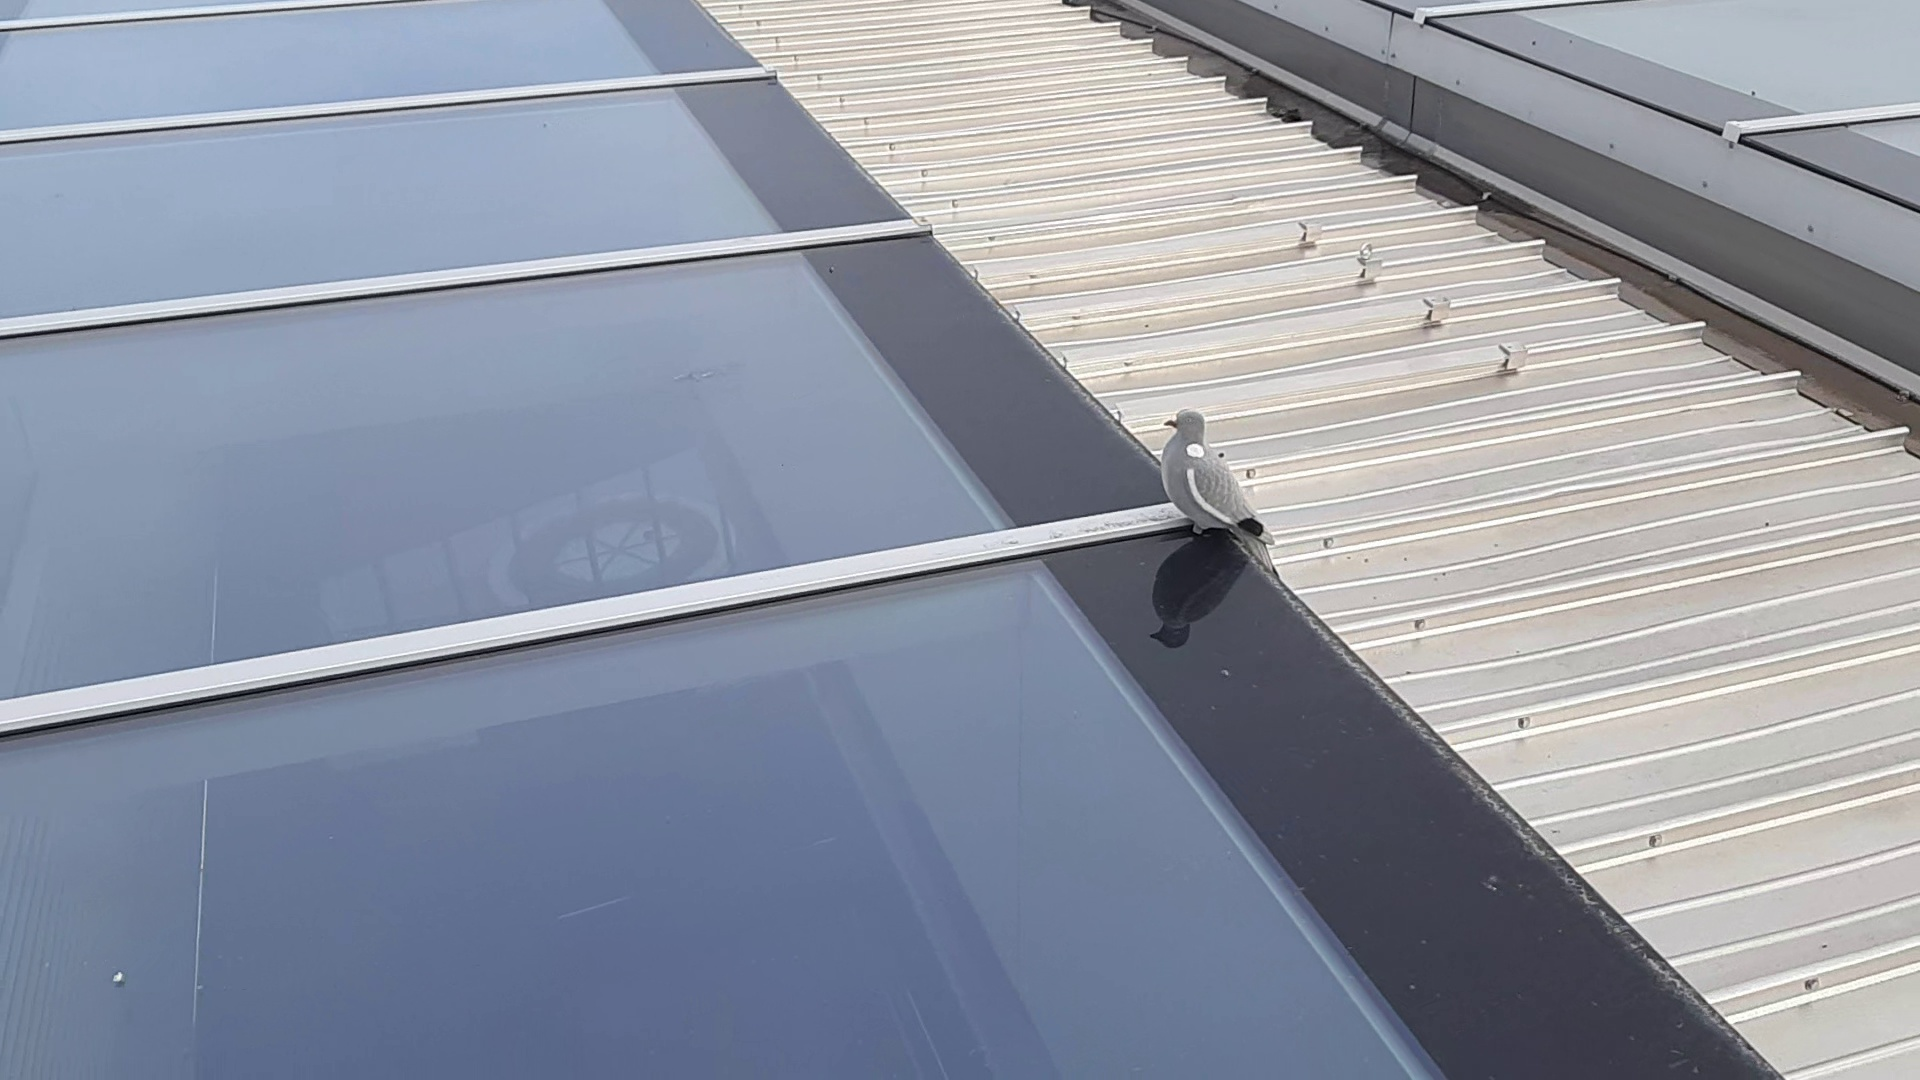Pigeon: (1153, 407, 1274, 549)
